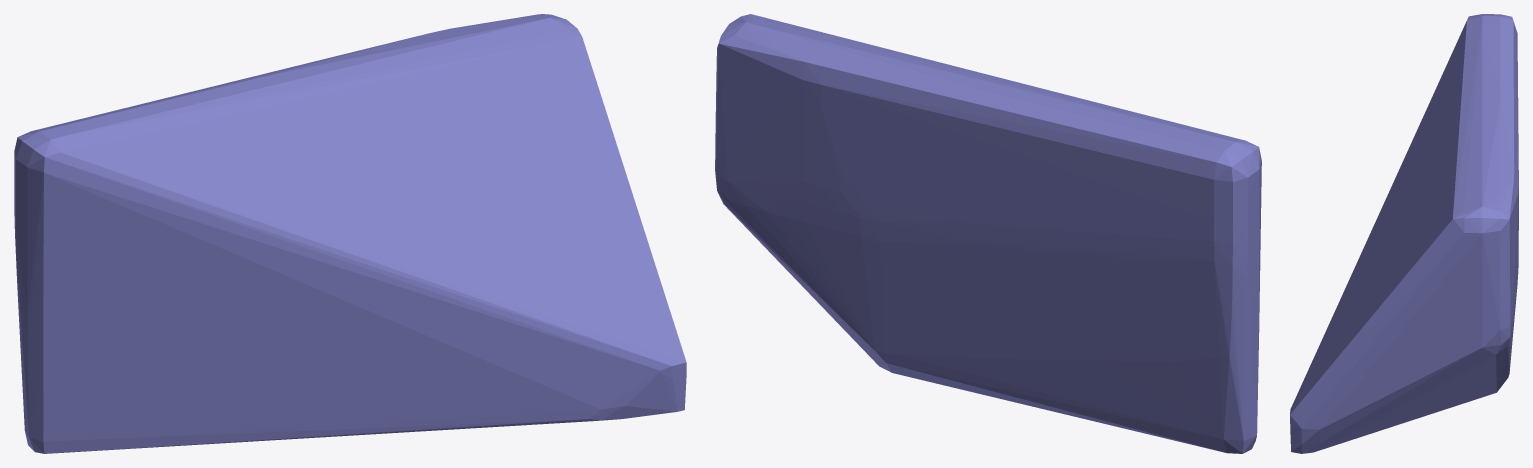
File: right-hip-pitch-0_part_12.obj
The picture shows the model from 3 angles, left to right: view 1: azimuth 30°, elevation 25°; view 2: azimuth 150°, elevation 25°; view 3: azimuth 270°, elevation 25°; orthographic projection. The views are drawn at different scales.
Size of the model in its own units: 0.0662 by 0.0365 by 0.0306.
